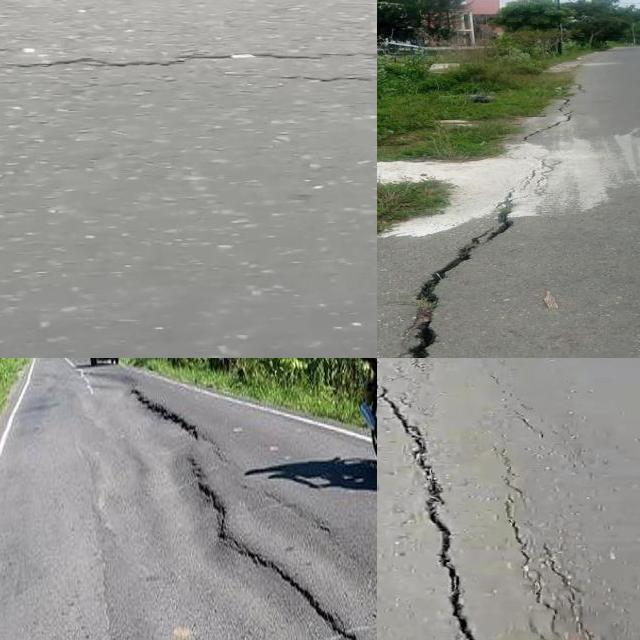Memanjang: (116, 386, 375, 640), (377, 376, 491, 640), (382, 188, 526, 358)
